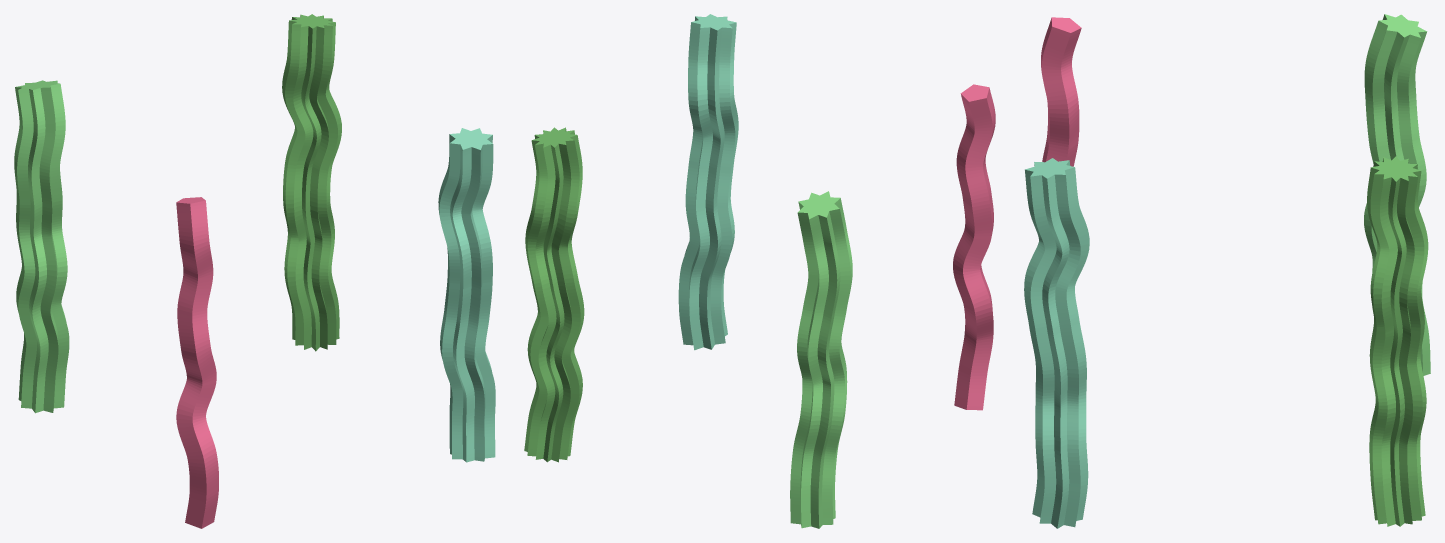
Rendered from phong_bumped_mats_1_OpenedSplineTest_2023-06-04-21-23-01.gltf.
3 views of the same model, side by side, from view 1: azimuth 30°, elevation 25°; view 2: azimuth 150°, elevation 25°; view 3: azimuth 270°, elevation 25° (orthographic). The views are drawn at different scales.
Bounding box in the file's own units: 238 × 231 × 240.
